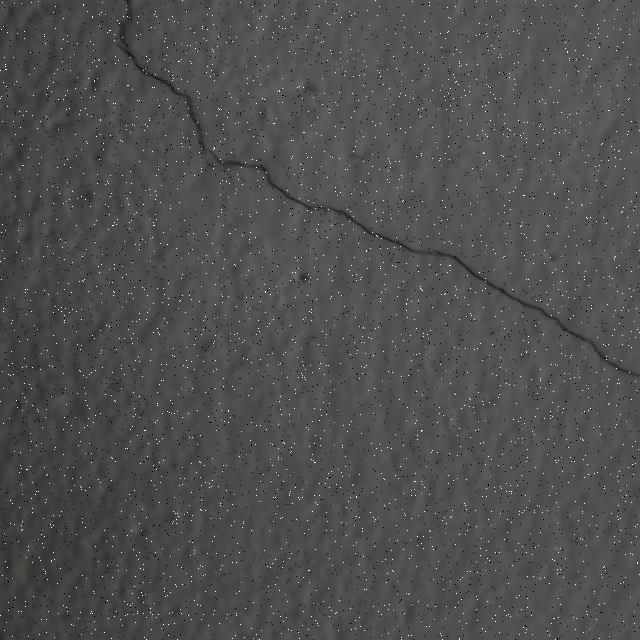minor crack: (102, 0, 640, 388), (116, 10, 243, 166), (446, 253, 618, 367), (180, 131, 323, 218)
moderate crack: (73, 304, 140, 352)
severe crack: (272, 178, 417, 253)
